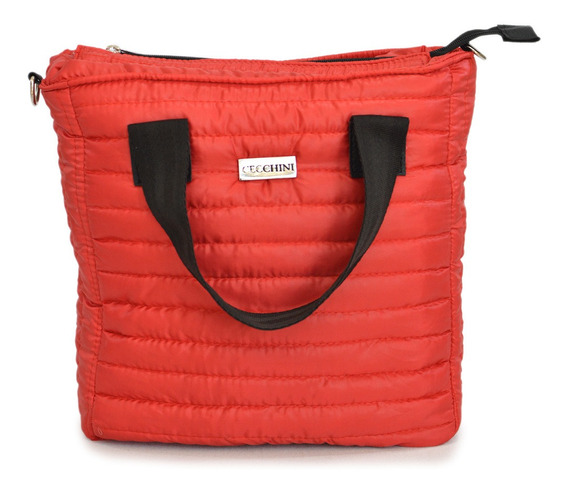cartera: (33, 42, 478, 451)
